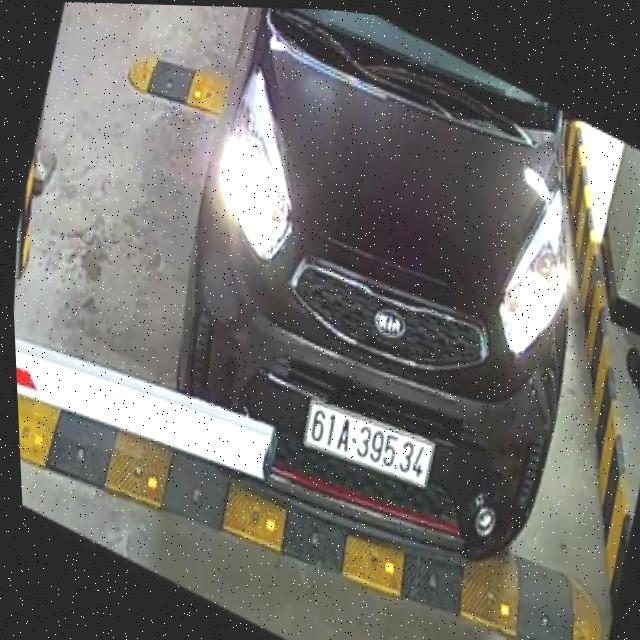car: (143, 4, 614, 583)
plate: (292, 390, 444, 494)
